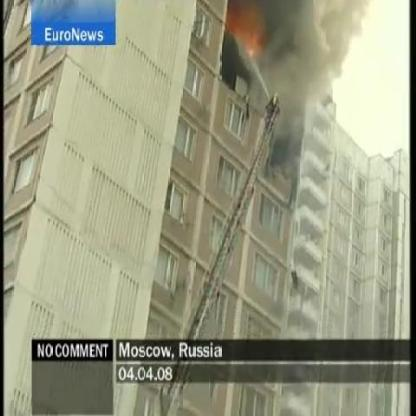fire: (247, 39, 257, 58)
